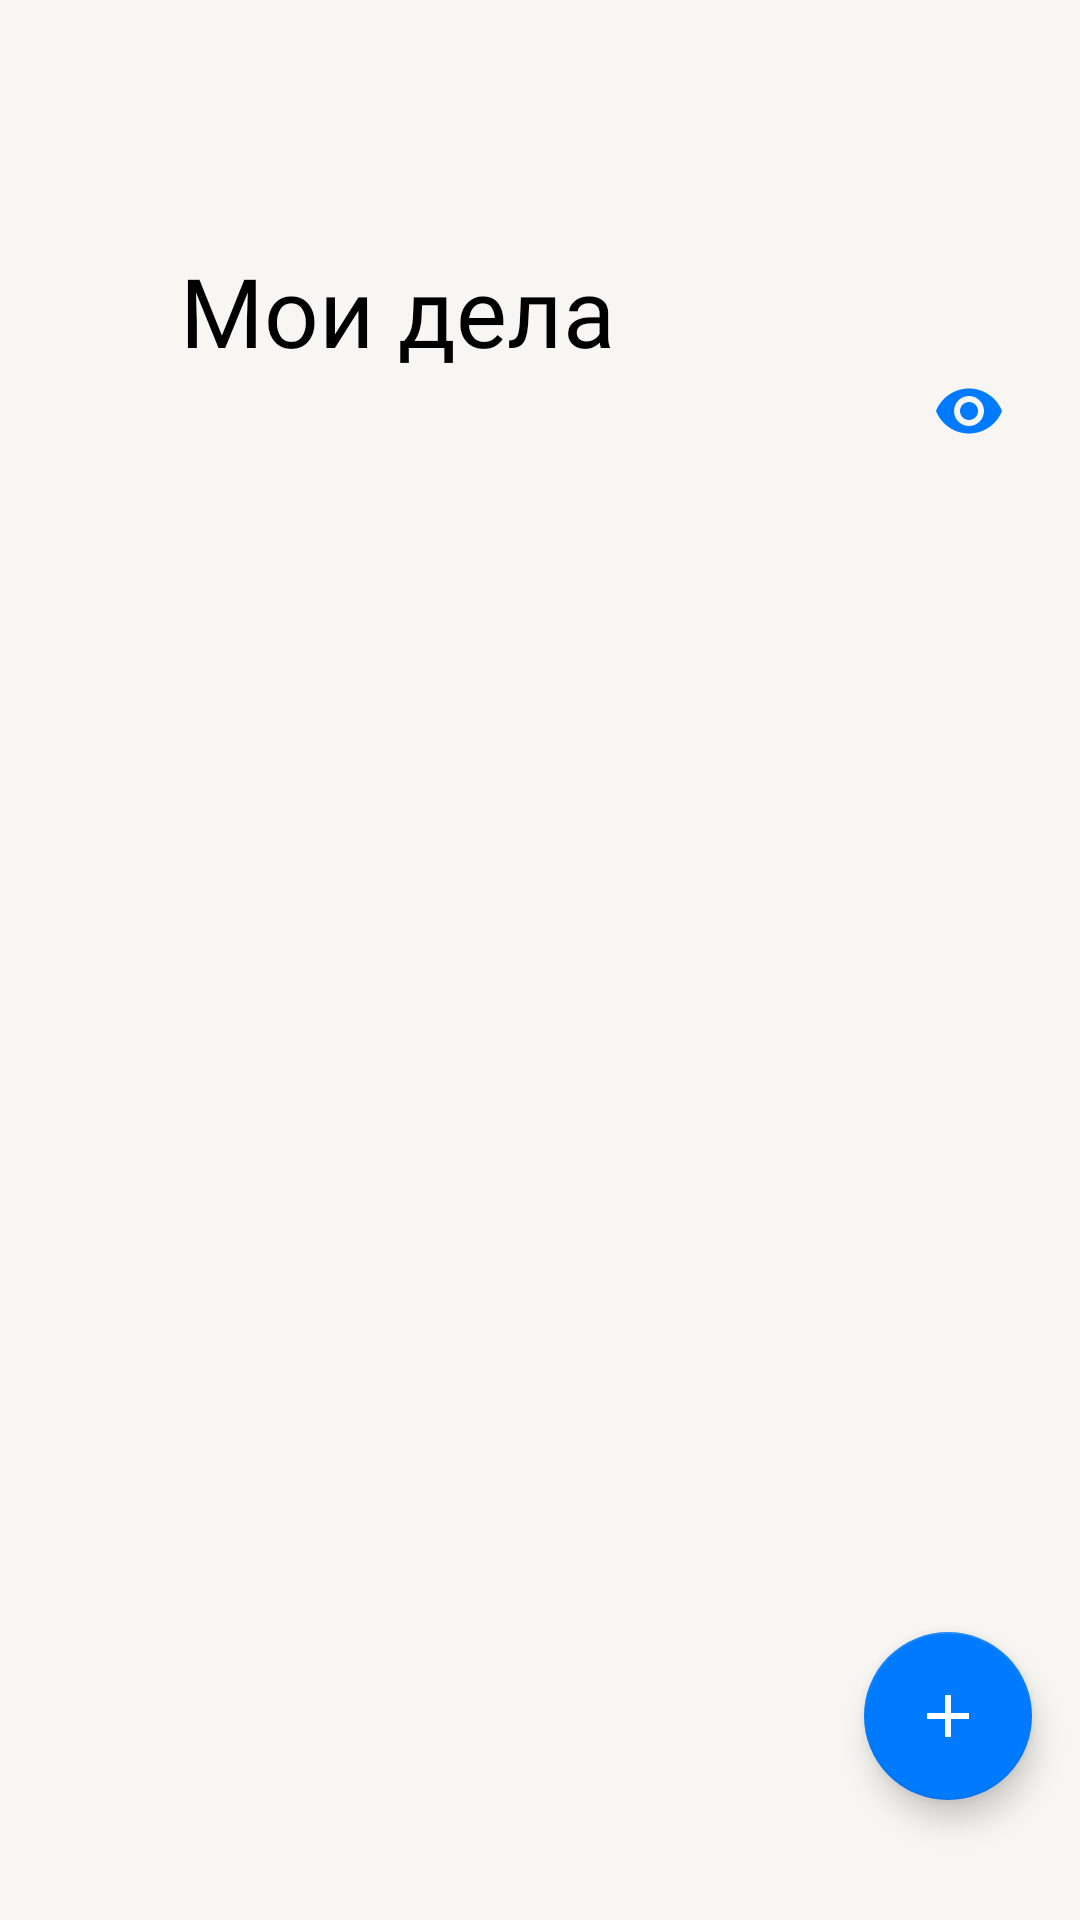

Point at icon controls on the screen. Image size 1080x1920, points as [x,y].
add: [948,1716]
visibility: [969,411]
